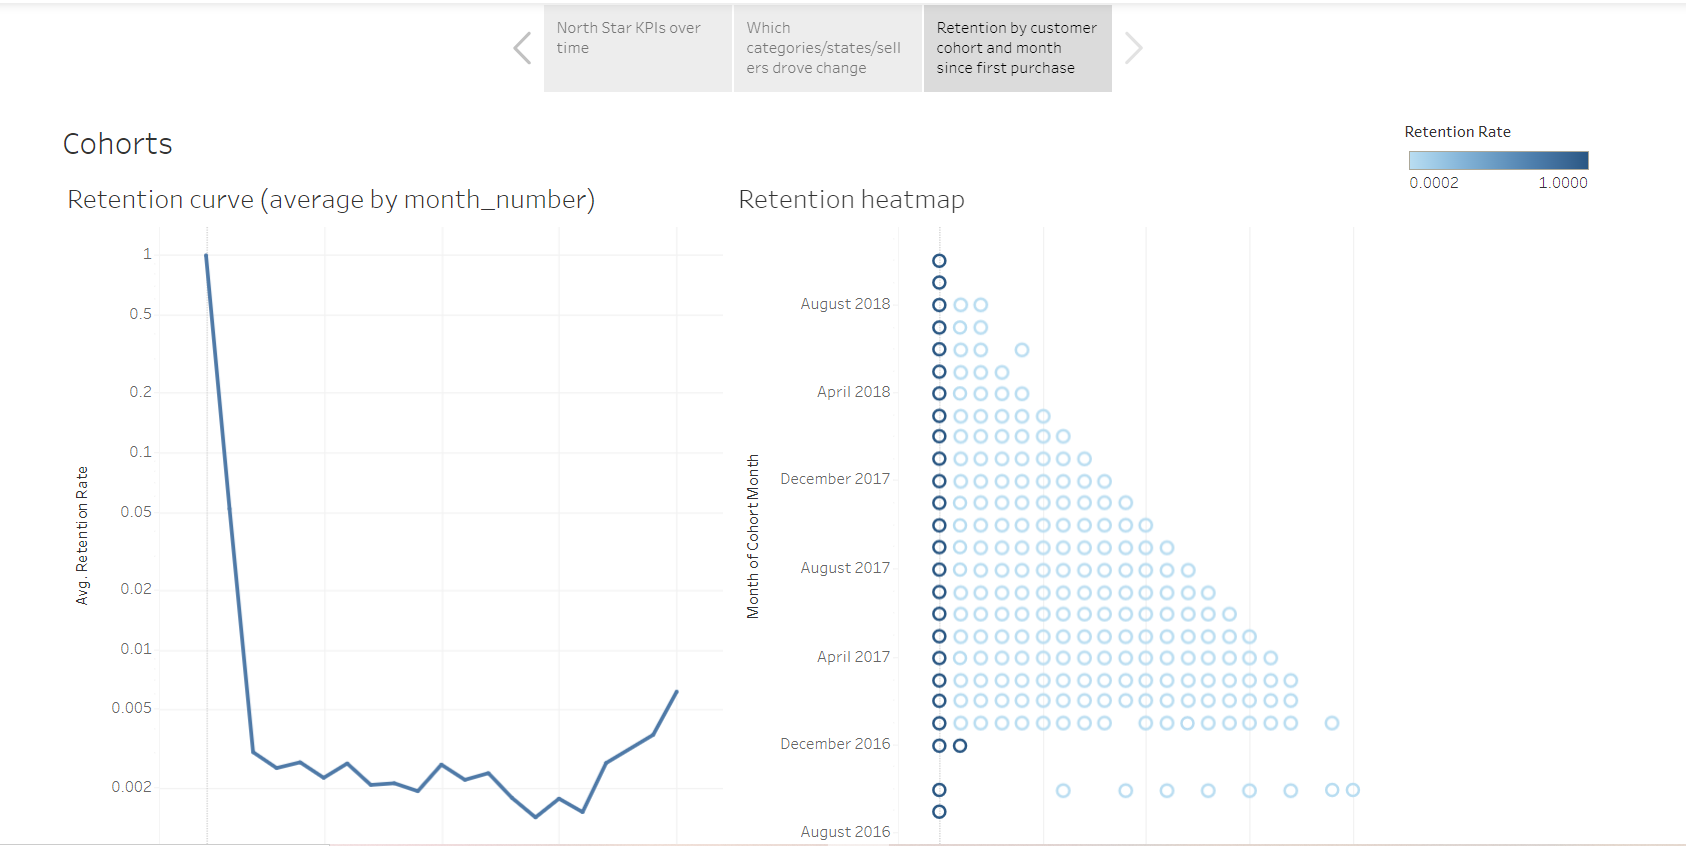

The page's visual inventory and layout, read from the dashboard file:
{"tool":"tableau","page":{"name":"Cohorts","canvas":[1250,660],"ordinal":0},"visuals":[{"type":"title","box":[8,8,1074,50]},{"type":"legend","title":"Retention heatmap","param":"[federated.0a6patj0ytlgex168zw7v1u5zizu].[sum:retention_rate:qk]","box":[1082,8,160,73]},{"type":"worksheet","title":"Retention curve (average by month_number)","mark":"Automatic","rows":["retention_rate"],"cols":["month_number"],"box":[8,58,537,594]},{"type":"worksheet","title":"Retention heatmap","mark":"Automatic","rows":["cohort_month"],"cols":["month_number"],"box":[545,58,537,594]}]}

Visuals, with their boxes on the page's 1250x660 design canvas (x1, y1, x2, y2). These are canvas units, not pixel positions in the 1686x846 screenshot, which may show the page scaled, cropped or inside an application window:
title: (8,8,1082,58)
"Retention heatmap" legend: (1082,8,1242,81)
"Retention curve (average by month_number)" worksheet: (8,58,545,652)
"Retention heatmap" worksheet: (545,58,1082,652)
